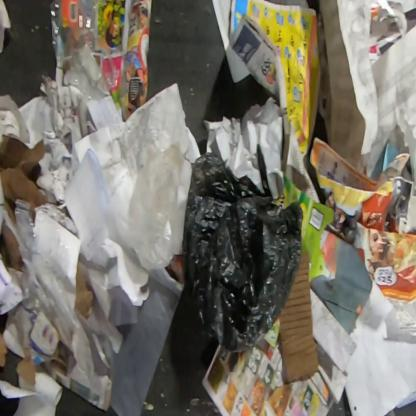cardboard: (266, 166, 335, 290), (0, 299, 69, 388), (277, 251, 319, 388), (76, 260, 94, 320)
soft_plastic: (182, 151, 304, 353), (14, 198, 106, 398), (50, 0, 119, 137), (126, 142, 186, 270)
